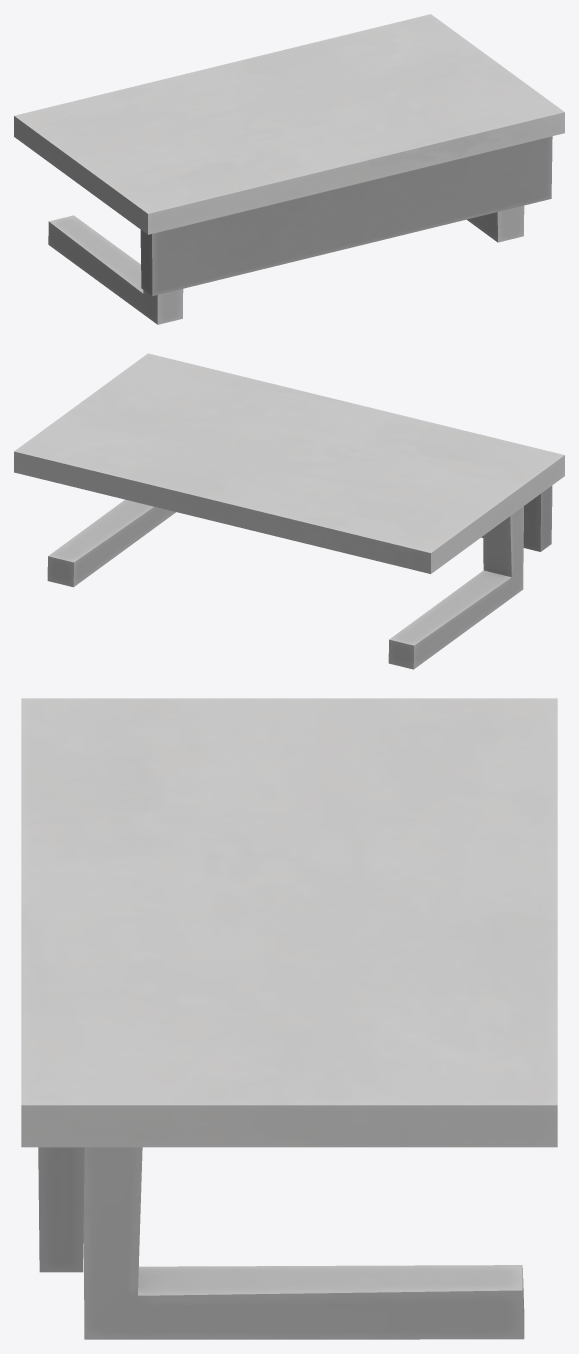
File: Pfb_Table__16.fbx
3 views of the same model, one above another, from view 1: azimuth 30°, elevation 25°; view 2: azimuth 150°, elevation 25°; view 3: azimuth 270°, elevation 25° (orthographic). The views are drawn at different scales.
Visible parts, largest first — view 1: Mat_Table_01_JLAB; view 2: Mat_Table_01_JLAB; view 3: Mat_Table_01_JLAB.
Boxes of the visible parts, bbox=[...] form: Mat_Table_01_JLAB: bbox=[14, 14, 564, 324]; Mat_Table_01_JLAB: bbox=[14, 353, 564, 669]; Mat_Table_01_JLAB: bbox=[21, 698, 557, 1339].
Size of the model in its own units: 2.23 by 0.6604 by 1.24.
Materials: 1 (1 with a texture image).
